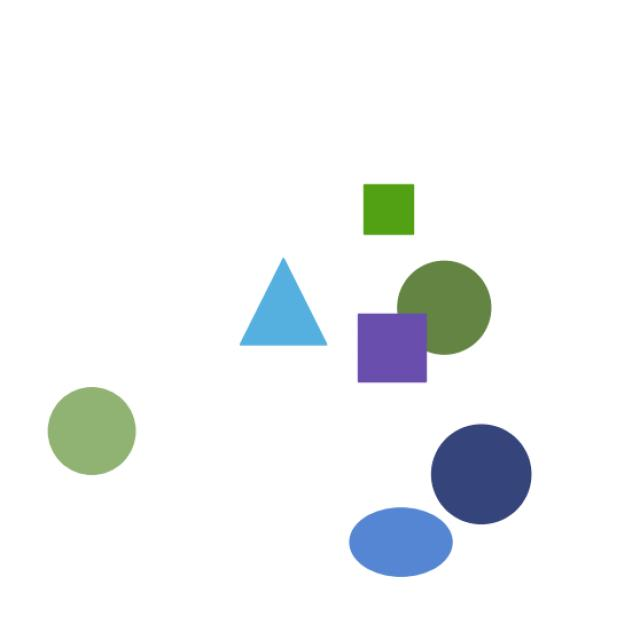Circle: (429, 419, 536, 528), (37, 380, 142, 482), (394, 258, 502, 356)
Oval: (341, 502, 463, 580)
Triangle: (230, 249, 342, 359)
square: (348, 309, 436, 391), (354, 173, 427, 242)
